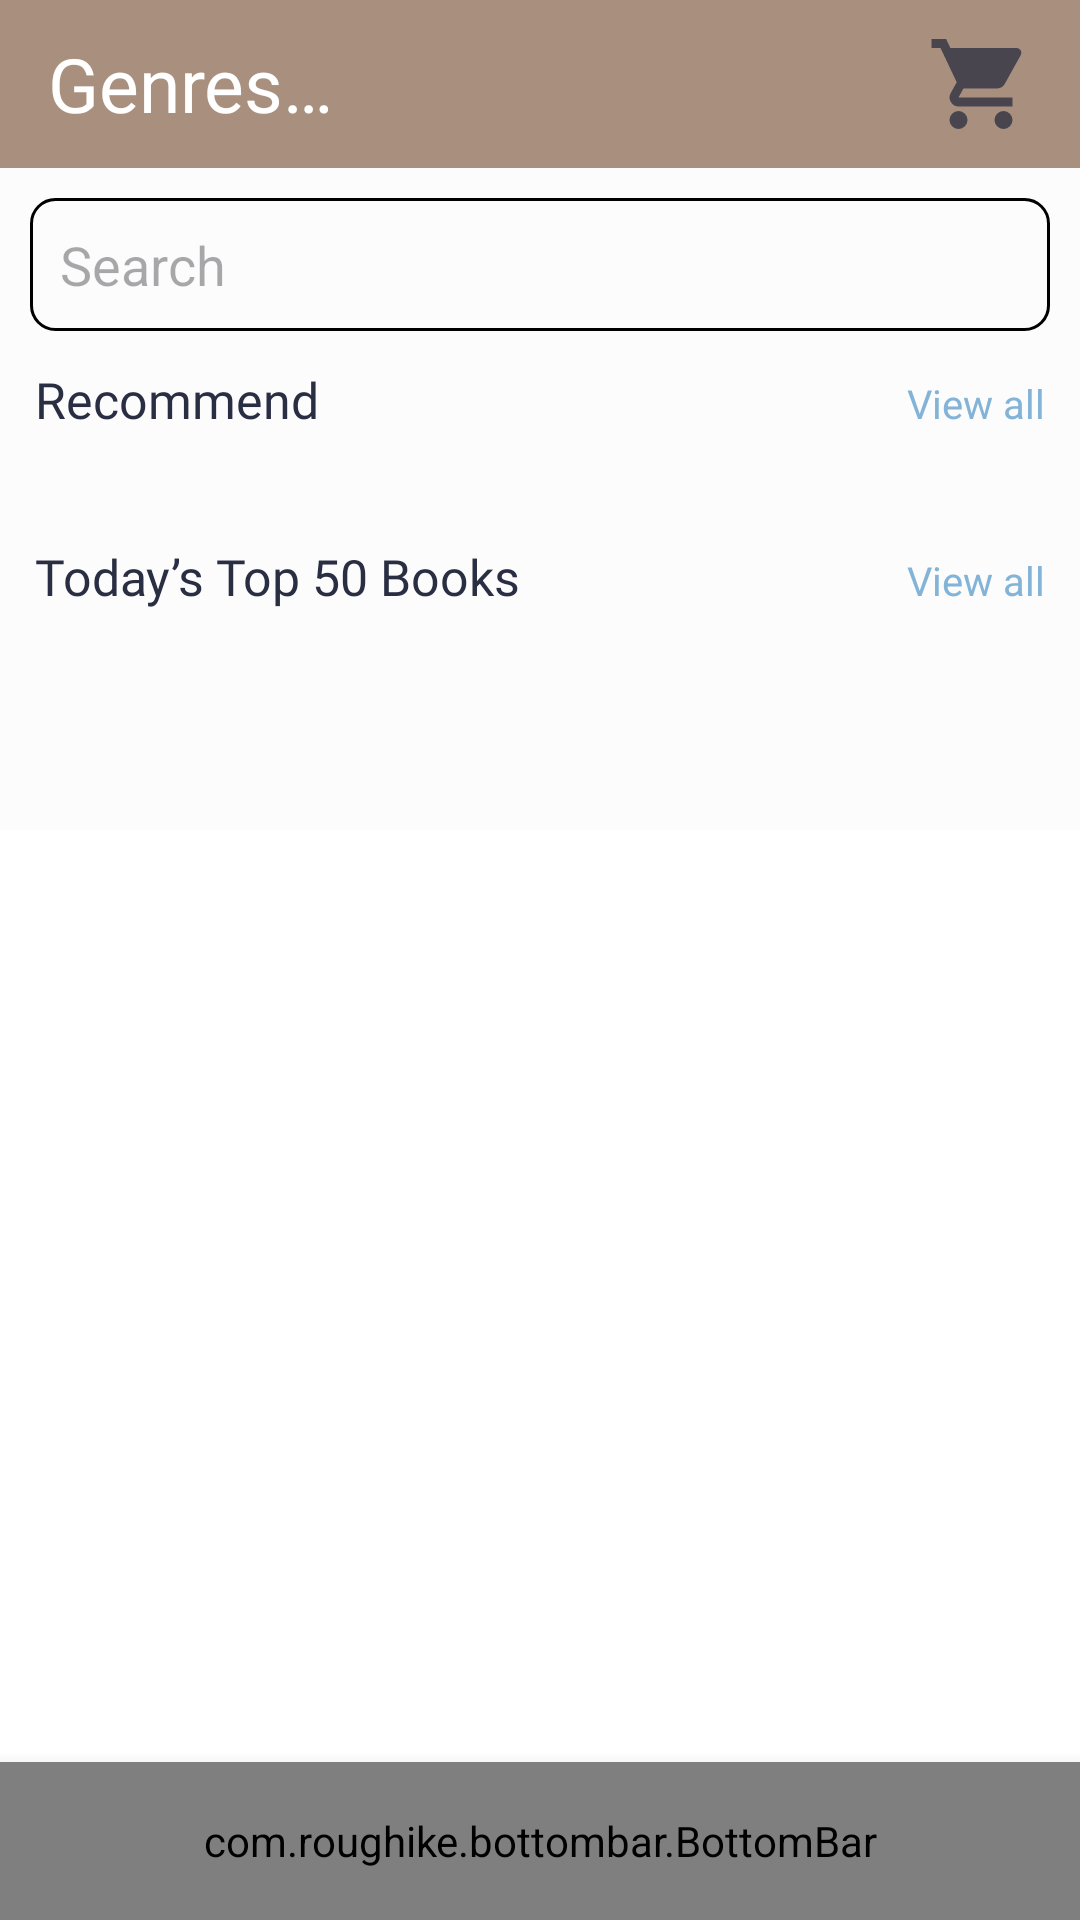

Named icons in this screenshot (1080w x 1920h) and their bounding boxes, rect(x1, y1, x2, y2):
shopping: rect(931, 39, 1022, 129)
